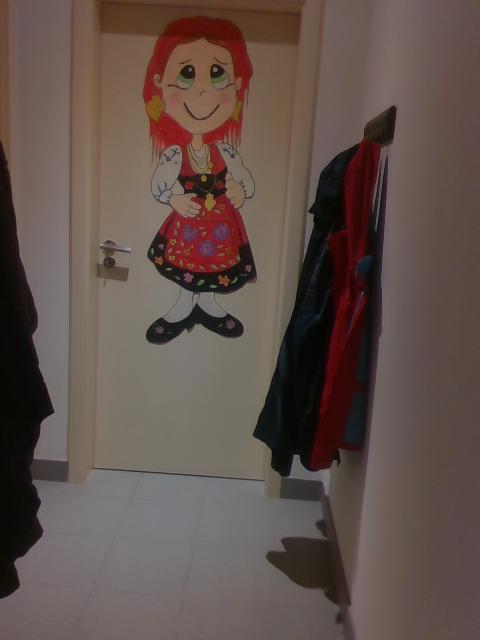door: (91, 1, 299, 481)
